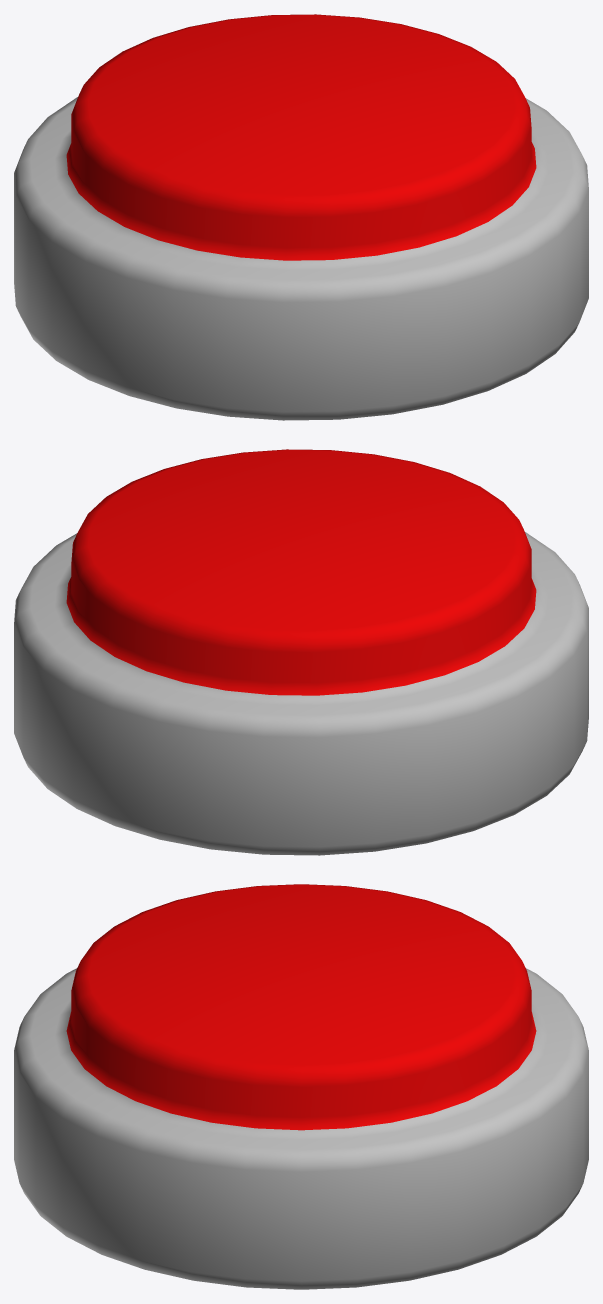
Rendered from redBuzz.glb.
3 renders of one model, top to bottom at view 1: azimuth 30°, elevation 25°; view 2: azimuth 150°, elevation 25°; view 3: azimuth 270°, elevation 25°, orthographic.
Parts seen in each view (by area): view 1: Cylinder; view 2: Cylinder; view 3: Cylinder.
Boxes of the visible parts, bbox=[...] form: Cylinder: bbox=[14, 14, 588, 420]; Cylinder: bbox=[14, 449, 588, 855]; Cylinder: bbox=[14, 884, 588, 1289].
Size of the model in its own units: 0.172 by 0.066 by 0.172.
